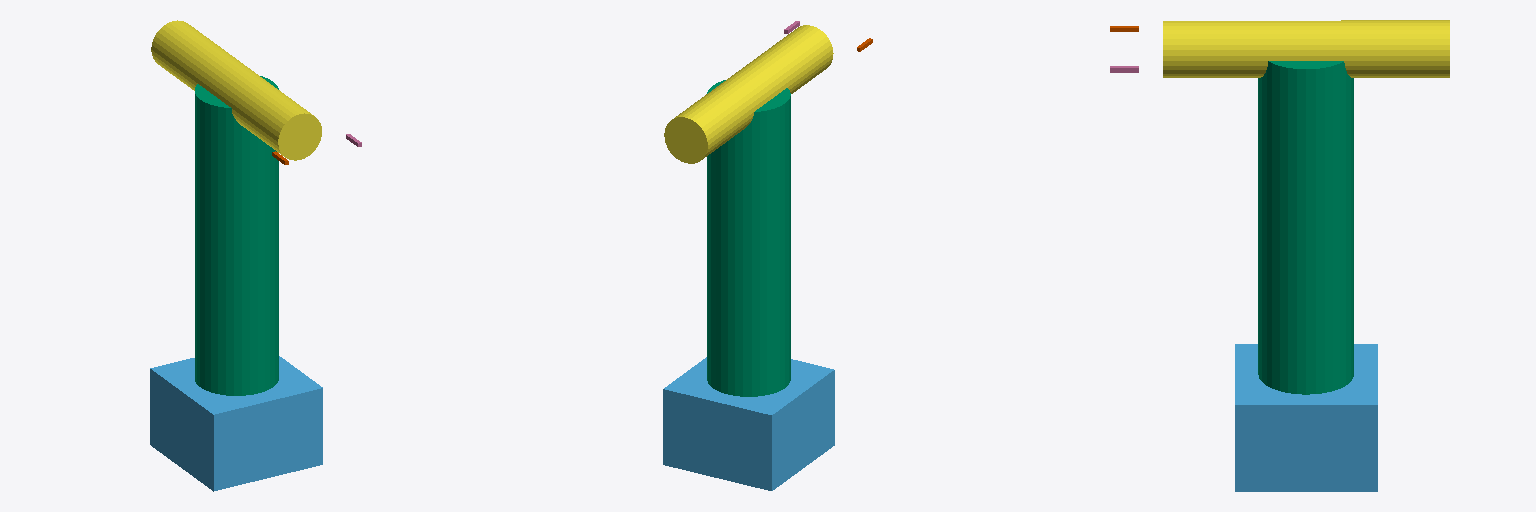
robot.urdf — test_basic:
<?xml version="1.0" encoding="UTF-8"?>
<robot name="test_basic">

  <link name="root_link"/>

  <joint name="root_to_base" type="fixed">
    <parent link="root_link"/>
    <child link="base_link"/>
  </joint>

  <link name="base_link">
    <visual>
      <geometry>
        <box size="0.3 .3 .2"/>
      </geometry>
    </visual>
    <collision>
      <geometry>
        <box size="0.3 .3 .2"/>
      </geometry>
    </collision>
    <inertial>
      <mass value="10"/>
      <!-- no inertial matrix -->
    </inertial>
  </link>

  <joint name="base_joint" type="continuous">
    <parent link="base_link"/>
    <child link="link_1"/>
    <axis xyz="0 0 1"/>
    <origin xyz="0 0 0.45"/>
  </joint>

  <link name="link_1">
    <visual>
      <geometry>
        <cylinder length="0.8" radius=".1"/>
      </geometry>
    </visual>
    <!-- no collision mesh info -->
    <inertial>
      <mass value="10"/>
      <inertia ixx="1.0" ixy="0.0" ixz="0.0" iyy="1.0" iyz="0.0" izz="1.0"/>
    </inertial>
  </link>


  <joint name="elbow_joint" type="revolute">
    <parent link="link_1"/>
    <child link="link_2"/>
    <limit effort="1000.0" lower="-0.6" upper="0.6" velocity="0.5"/>
    <origin xyz="0 0 0.4" rpy="1.571 0 0"/>
    <axis xyz="1 0 0"/>
  </joint>

  <link name="link_2">
    <visual>
      <geometry>
        <cylinder length="0.6" radius=".06"/>
      </geometry>
    </visual>
    <collision>
      <geometry>
        <cylinder length="0.6" radius=".06"/>
      </geometry>
    </collision>
    <!-- no inertia or mass info -->
  </link>

  <joint name="wrist_joint" type="continuous">
    <parent link="link_2"/>
    <child link="palm_link"/>
    <origin xyz="0 0 0.33"/>
    <axis xyz="0 0 1"/>
  </joint>

  <link name="palm_link">
    <!-- no visual mesh info -->
    <collision>
      <geometry>
        <box size="0.2 .06 .06"/>
      </geometry>
    </collision>
  </link>

  <joint name="finger_1_joint" type="prismatic">
    <parent link="palm_link"/>
    <child link="finger_link_1"/>
    <!-- limit effort="1000.0" lower="-0.02" upper="0.08" velocity="0.5"/-->
    <!-- missing joint info -->
    <origin rpy="0 1.571 0" xyz="-0.10 0 0.05"/>
    <axis xyz="0 0 1"/>
  </joint>

  <link name="finger_link_1">
    <visual>
      <geometry>
        <box size="0.06 .01 .01"/>
      </geometry>
    </visual>
    <collision>
      <geometry>
        <box size="0.06 .1 .1"/>
      </geometry>
    </collision>
    <inertial>
      <mass value="3"/>
      <inertia ixx="1.0" ixy="0.0" ixz="0.0" iyy="1.0" iyz="0.0" izz="1.0"/>
    </inertial>
  </link>

  <joint name="finger_2_joint" type="prismatic">
    <parent link="palm_link"/>
    <child link="finger_link_2"/>
    <limit effort="1000.0" lower="-0.08" upper="0.02" velocity="0.5"/>
    <origin rpy="0 1.571 0" xyz="0.10 0 0.05"/>
    <axis xyz="0 0 1"/>
  </joint>

  <link name="finger_link_2">
    <visual>
      <geometry>
        <box size="0.06 .01 .01"/>
      </geometry>
    </visual>
    <collision>
      <geometry>
        <box size="0.06 .1 .1"/>
      </geometry>
    </collision>
    <inertial>
      <mass value="3"/>
      <inertia ixx="1.0" ixy="0.0" ixz="0.0" iyy="1.0" iyz="0.0" izz="1.0"/>
    </inertial>
  </link>
</robot>

--- Render facts (derived) ---
Views: 3 orthographic renders of the robot side by side, from view 1: azimuth 30°, elevation 25°; view 2: azimuth 150°, elevation 25°; view 3: azimuth 270°, elevation 25°.
Robot: test_basic — 7 links, 6 joints (1 revolute, 2 continuous, 2 prismatic, 1 fixed); root link root_link; default pose: every joint at zero.
Links seen in each view (by area): view 1: link_1, base_link, link_2; view 2: link_1, base_link, link_2; view 3: link_1, base_link, link_2.
Boxes of the visible links, box(x1,y1,x2,y2) form: link_1: box(195, 76, 278, 395); base_link: box(150, 356, 322, 491); link_2: box(151, 20, 321, 160); link_1: box(707, 80, 790, 396); base_link: box(663, 357, 834, 490); link_2: box(664, 25, 833, 163); link_1: box(1258, 61, 1353, 394); base_link: box(1235, 344, 1377, 491); link_2: box(1163, 20, 1449, 77).
Bounding box of the posed robot: 0.3 × 0.71 × 1.01 m (x, y, z).
Geometry: primitives only (box / cylinder / sphere), no mesh files.